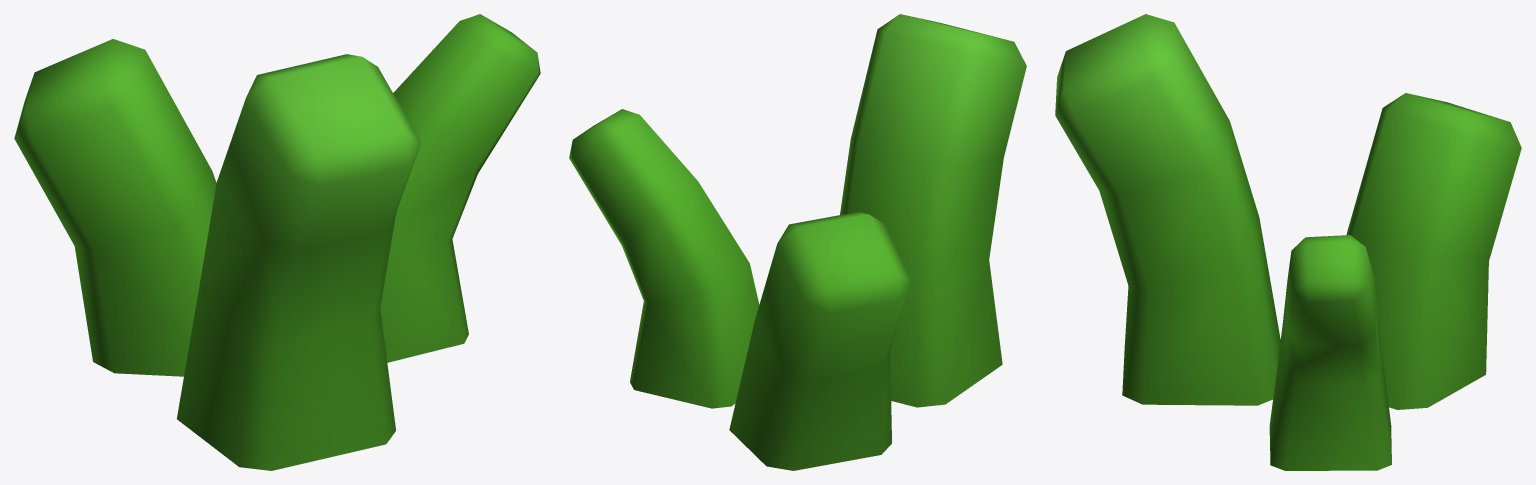
Rendered from Grass_2_2.glb.
3 views of the same model, side by side, from view 1: azimuth 30°, elevation 25°; view 2: azimuth 150°, elevation 25°; view 3: azimuth 270°, elevation 25° (orthographic). The views are drawn at different scales.
Visible parts, largest first — view 1: Grass_2_2; view 2: Grass_2_2; view 3: Grass_2_2.
Boxes of the visible parts, <box> form: Grass_2_2: <box>14,14,540,470</box>; Grass_2_2: <box>569,14,1026,470</box>; Grass_2_2: <box>1055,14,1521,470</box>.
Bounding box in the file's own units: 0.2267 × 0.1858 × 0.2324.
1 material, 1 textured.
